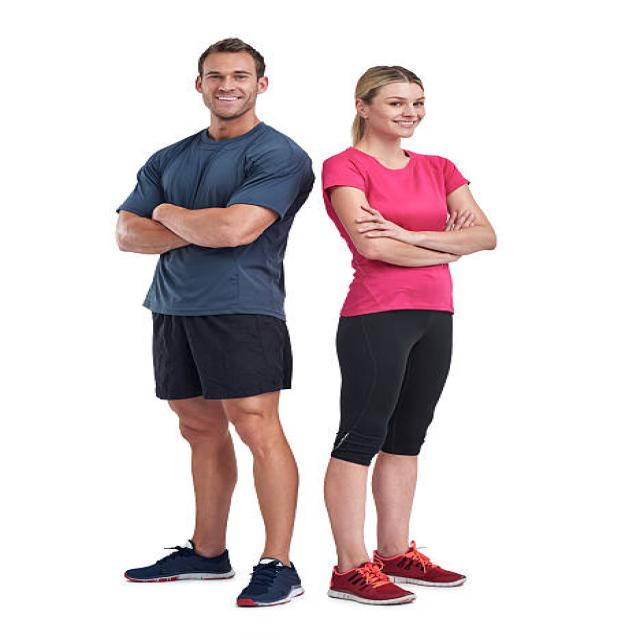Edited images: (92, 33, 506, 623)
